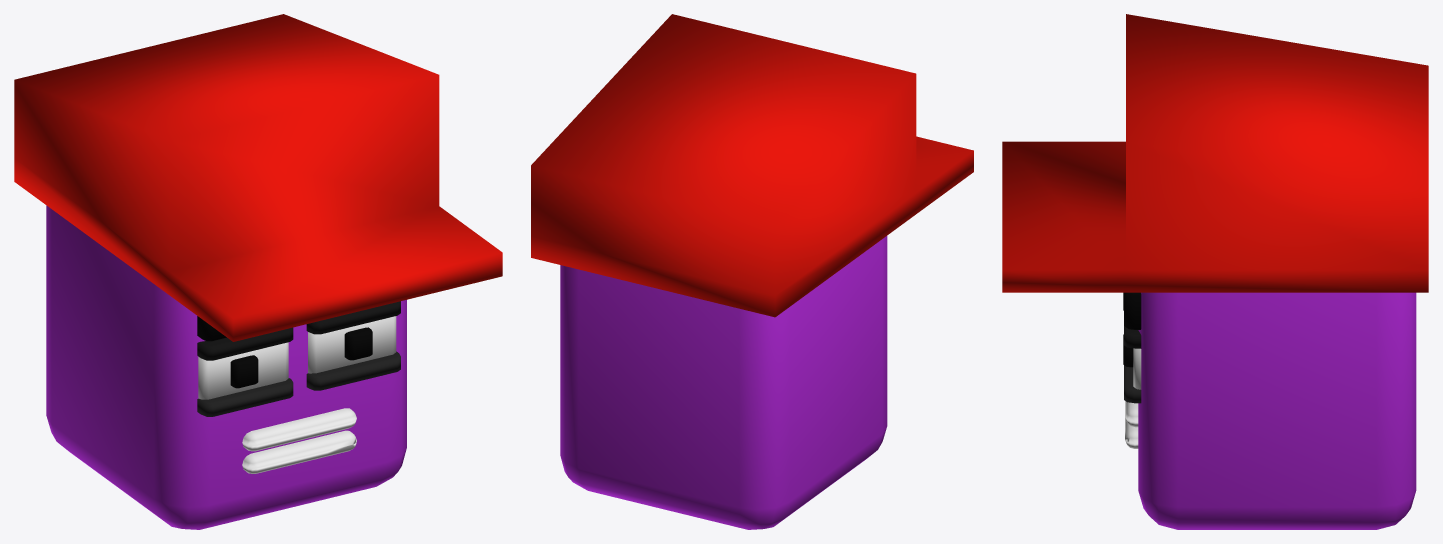
Rendered from head_2.glb.
3 views of the same model, side by side, from view 1: azimuth 30°, elevation 25°; view 2: azimuth 150°, elevation 25°; view 3: azimuth 270°, elevation 25° (orthographic). The views are drawn at different scales.
Parts seen in each view (by area): view 1: Cube, Head.001; view 2: Cube, Head.001; view 3: Cube, Head.001.
Part boxes in pixels (left/top/right/bottom): Cube: left=14, top=14, right=502, bottom=341; Head.001: left=46, top=205, right=406, bottom=529; Cube: left=531, top=14, right=973, bottom=317; Head.001: left=560, top=236, right=887, bottom=529; Cube: left=1002, top=14, right=1428, bottom=292; Head.001: left=1123, top=292, right=1416, bottom=529.
Size of the model in its own units: 0.7618 by 1.13 by 1.07.
